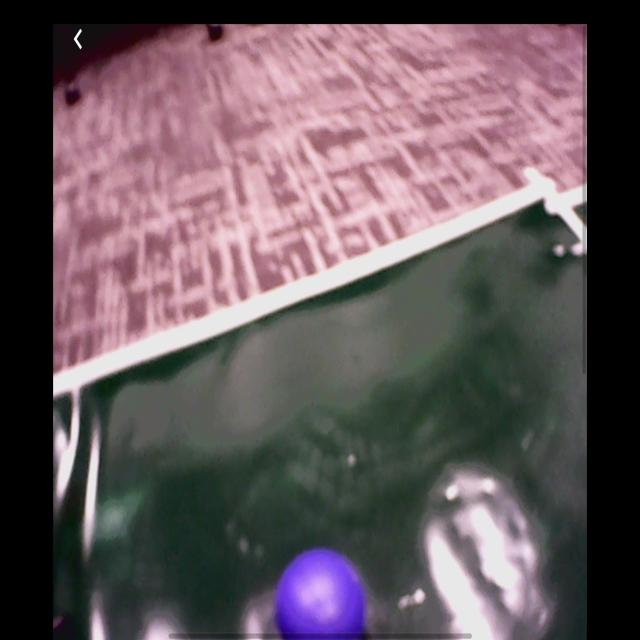ball: (275, 549, 369, 640)
